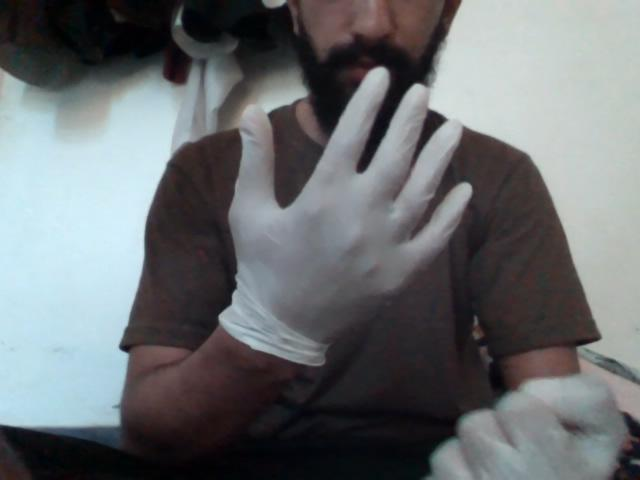gloves: (207, 72, 476, 370)
